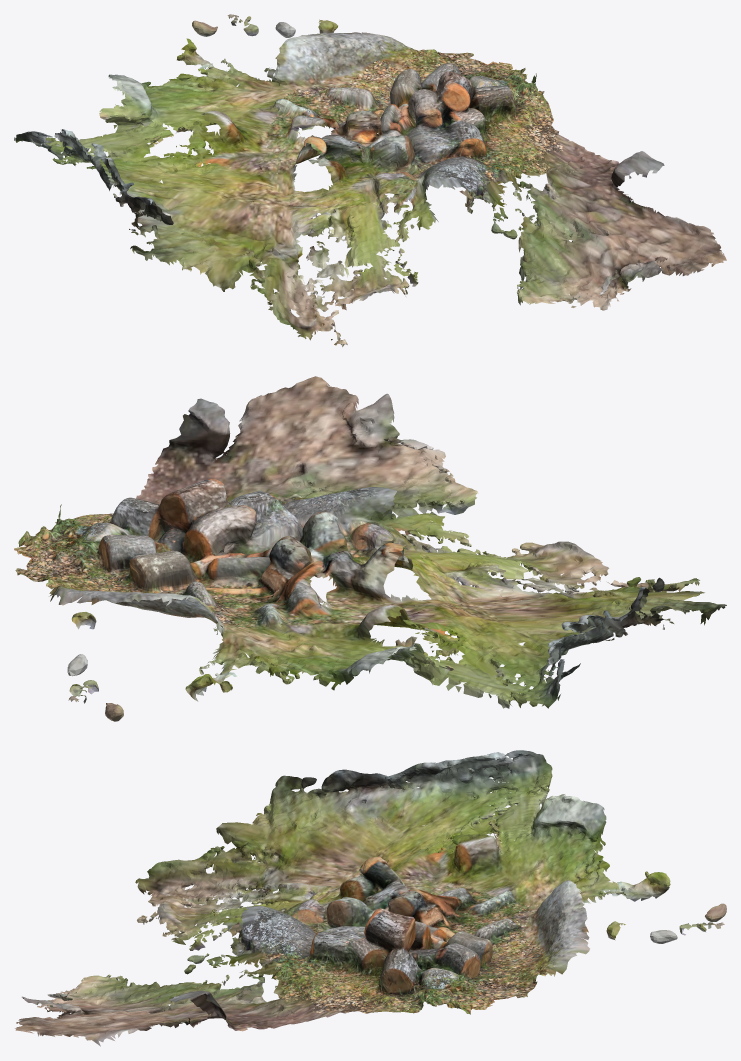
The model's file is metascan_20230505-1147.obj.
3 views of the same model, one above another, from view 1: azimuth 30°, elevation 25°; view 2: azimuth 150°, elevation 25°; view 3: azimuth 270°, elevation 25° (orthographic). The views are drawn at different scales.
Parts seen in each view (by area): view 1: mesh_0; view 2: mesh_0; view 3: mesh_0.
Boxes of the visible parts, left/top/right/bottom form: mesh_0: left=14, top=14, right=726, bottom=346; mesh_0: left=14, top=376, right=726, bottom=721; mesh_0: left=15, top=750, right=726, bottom=1046.
Bounding box in the file's own units: 5.58 × 1.4 × 7.03.
1 material, 1 textured.
